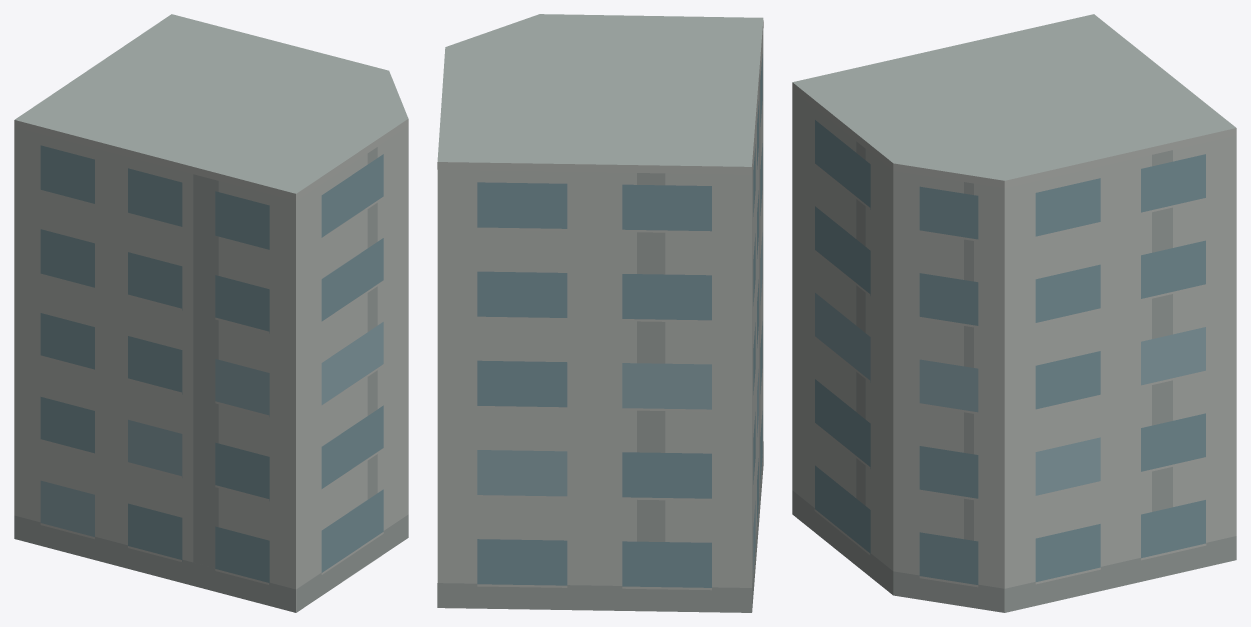
Rendered from survey-upis-32840246.glb.
The picture shows the model from 3 angles, left to right: view 1: azimuth 30°, elevation 25°; view 2: azimuth 150°, elevation 25°; view 3: azimuth 270°, elevation 25°; orthographic projection. The views are drawn at different scales.
Visible parts, largest first — view 1: survey-upis-32840246.tmp; view 2: survey-upis-32840246.tmp; view 3: survey-upis-32840246.tmp.
Part boxes in pixels (x1,y1,x2,y2): survey-upis-32840246.tmp: [14, 14, 408, 612]; survey-upis-32840246.tmp: [437, 14, 763, 612]; survey-upis-32840246.tmp: [792, 14, 1236, 612].
Bounding box in the file's own units: 11.47 × 13.85 × 12.91.
